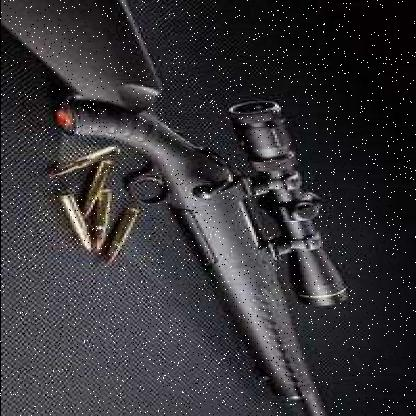rifle: (1, 0, 370, 412)
